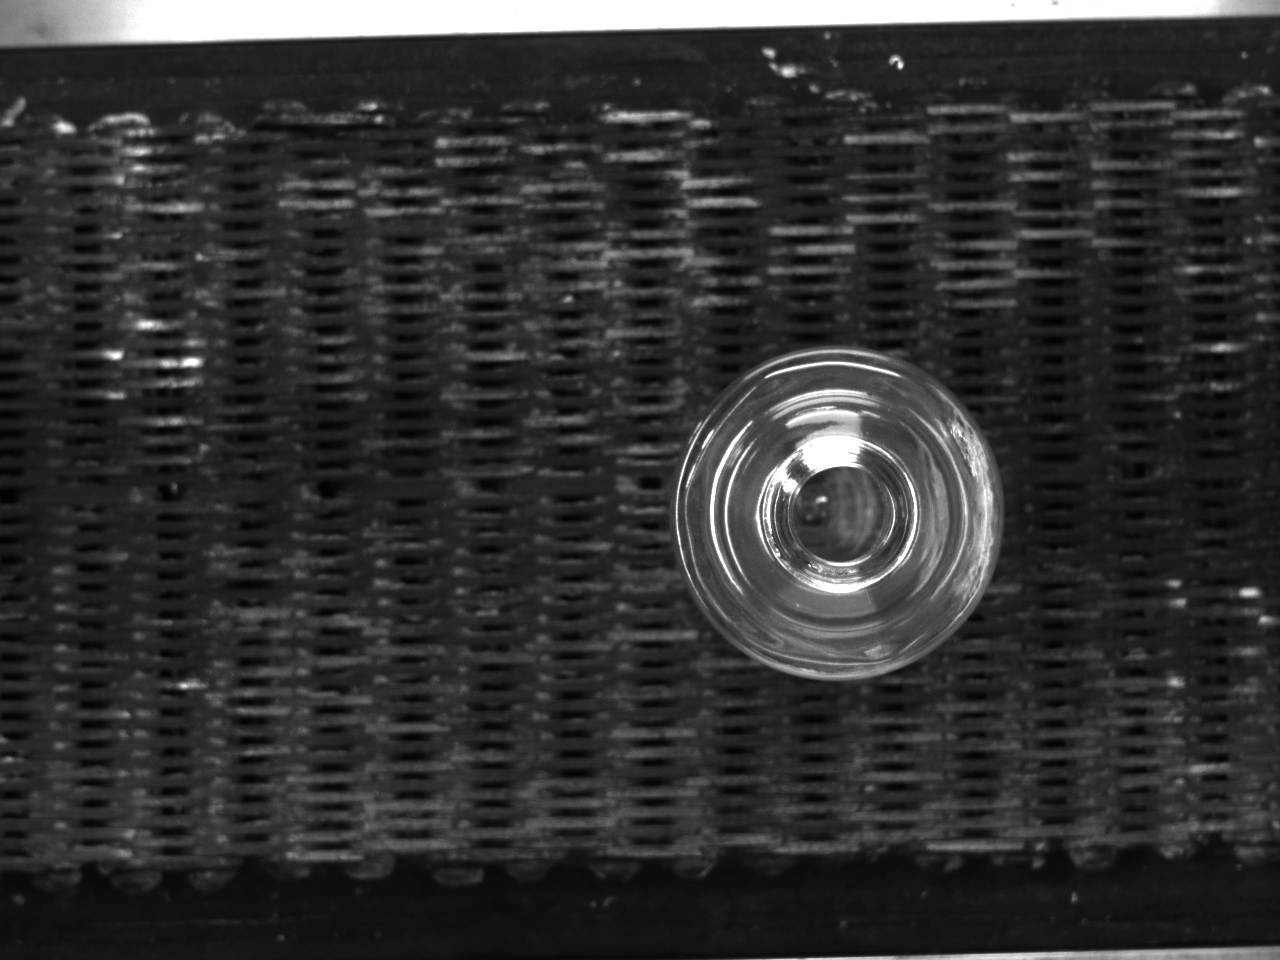bottleneck: (764, 436, 920, 593)
